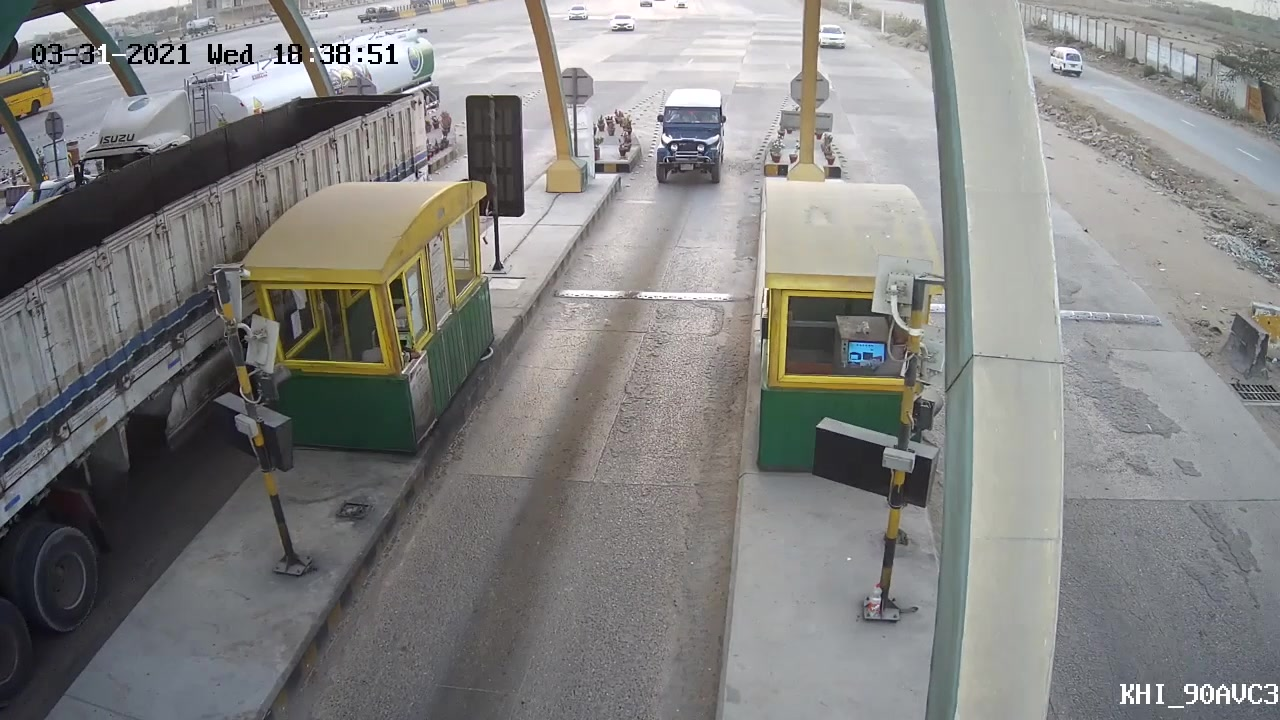F1: (652, 81, 732, 193)
